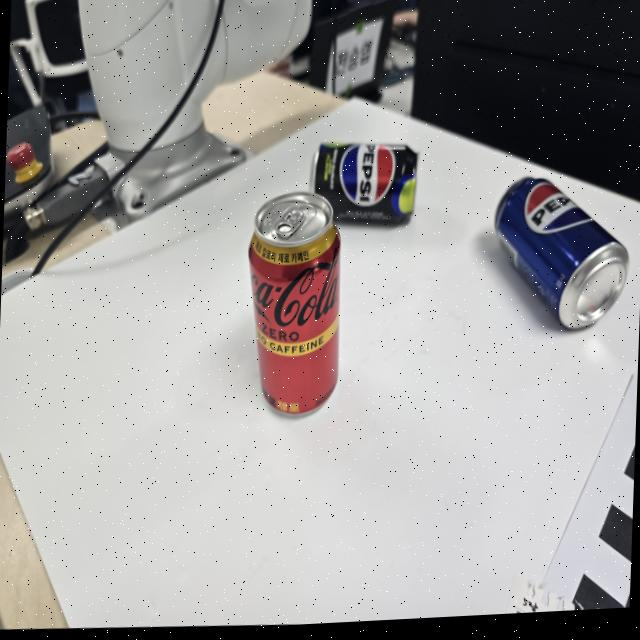can_coke_decaf: (248, 190, 339, 417)
can_pepsi: (492, 175, 631, 328)
can_pepsi_zero: (308, 143, 420, 228)
